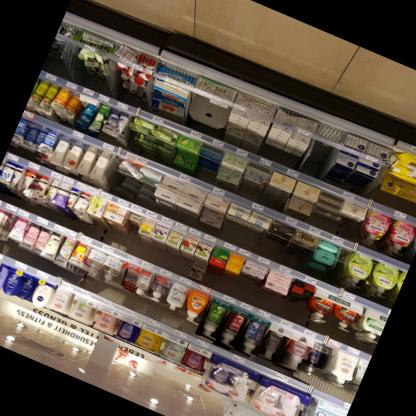empty_space: (303, 125, 336, 177), (307, 190, 345, 235), (217, 213, 262, 250), (190, 96, 227, 122)
